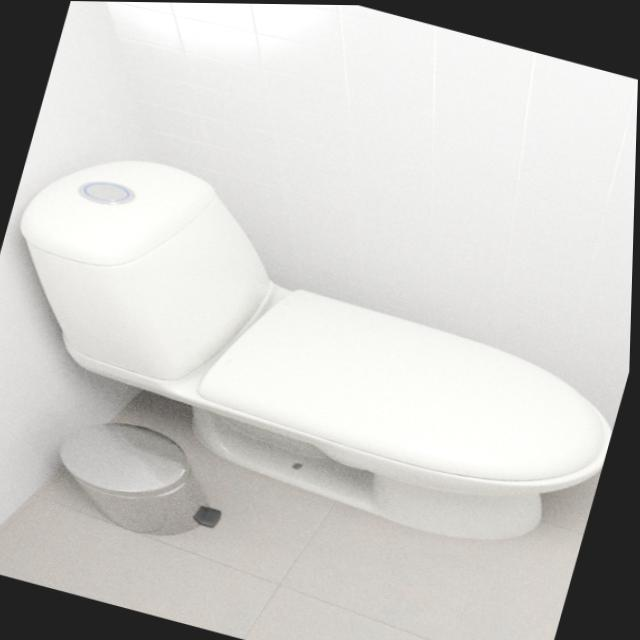toilet: (0, 129, 637, 568)
